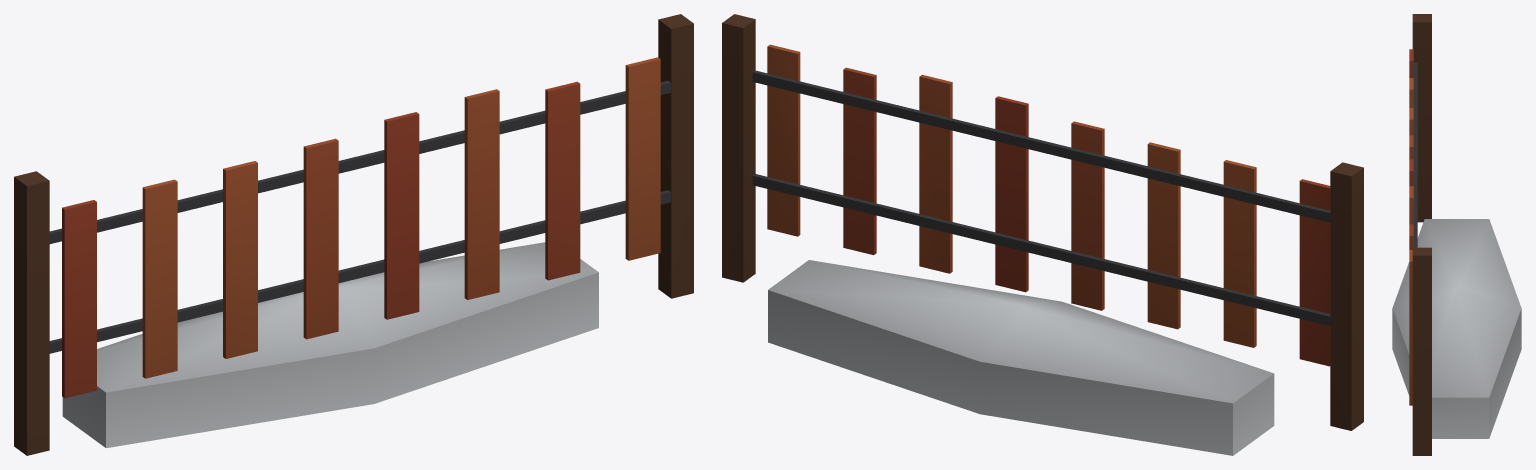
The model's file is prop.glacier_snowfence.glb.
3 views of the same model, side by side, from view 1: azimuth 30°, elevation 25°; view 2: azimuth 150°, elevation 25°; view 3: azimuth 270°, elevation 25° (orthographic). The views are drawn at different scales.
Visible parts, largest first — view 1: glacier_snowfence, end_post; view 2: glacier_snowfence, end_post; view 3: glacier_snowfence, end_post.
Part boxes in pixels (box(x1,y1,x2,y2)): glacier_snowfence: box(14, 57, 670, 455); end_post: box(658, 14, 693, 298); glacier_snowfence: box(752, 44, 1363, 455); end_post: box(722, 14, 755, 282); glacier_snowfence: box(1392, 14, 1521, 438); end_post: box(1412, 247, 1431, 455).
Size of the model in its own units: 4.14 by 1.88 by 0.9353.
